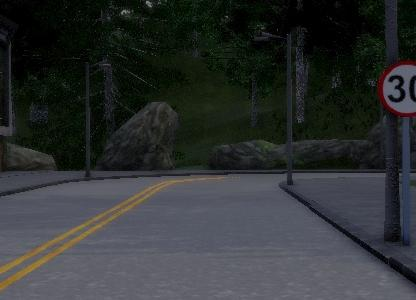Speed_30: (377, 59, 416, 119)
